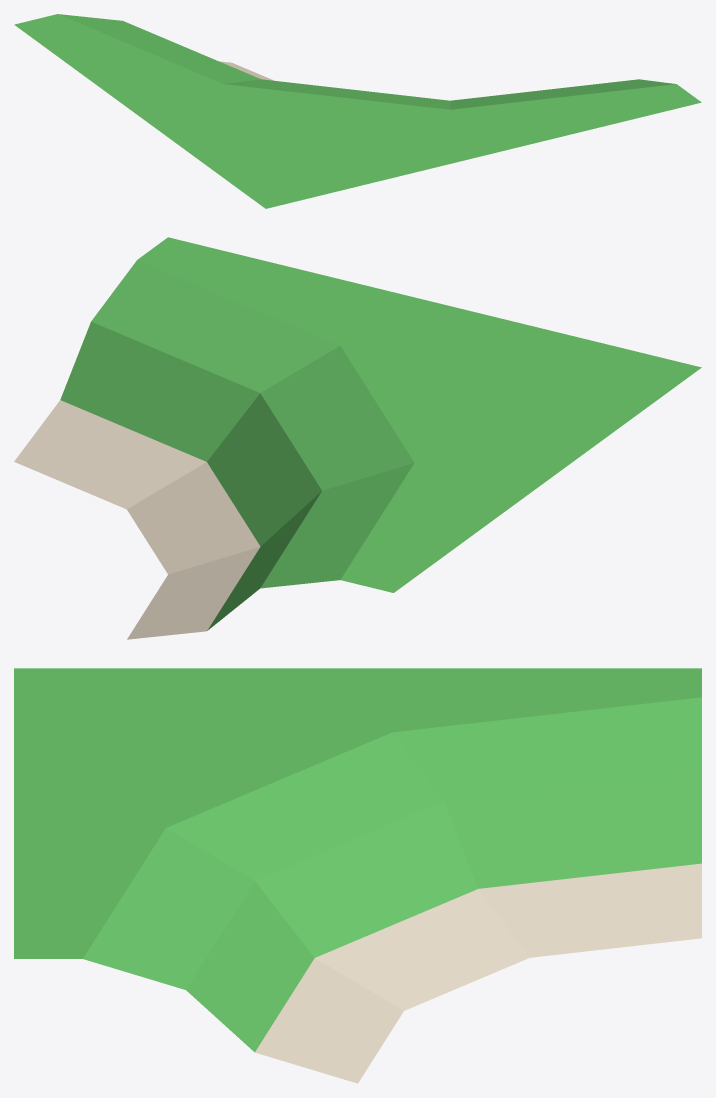
Rendered from Hilly_Terrain_Path_Corner_Outer_1x1.glb.
3 views of the same model, one above another, from view 1: azimuth 30°, elevation 25°; view 2: azimuth 150°, elevation 25°; view 3: azimuth 270°, elevation 25° (orthographic). The views are drawn at different scales.
Parts seen in each view (by area): view 1: Hilly_Terrain_Path_Corner_Outer_1x1; view 2: Hilly_Terrain_Path_Corner_Outer_1x1; view 3: Hilly_Terrain_Path_Corner_Outer_1x1.
Part boxes in pixels (left/top/right/bottom): Hilly_Terrain_Path_Corner_Outer_1x1: left=14, top=14, right=701, bottom=208; Hilly_Terrain_Path_Corner_Outer_1x1: left=14, top=237, right=701, bottom=639; Hilly_Terrain_Path_Corner_Outer_1x1: left=14, top=668, right=701, bottom=1083.
Bounding box in the file's own units: 1 × 0.2 × 1.
